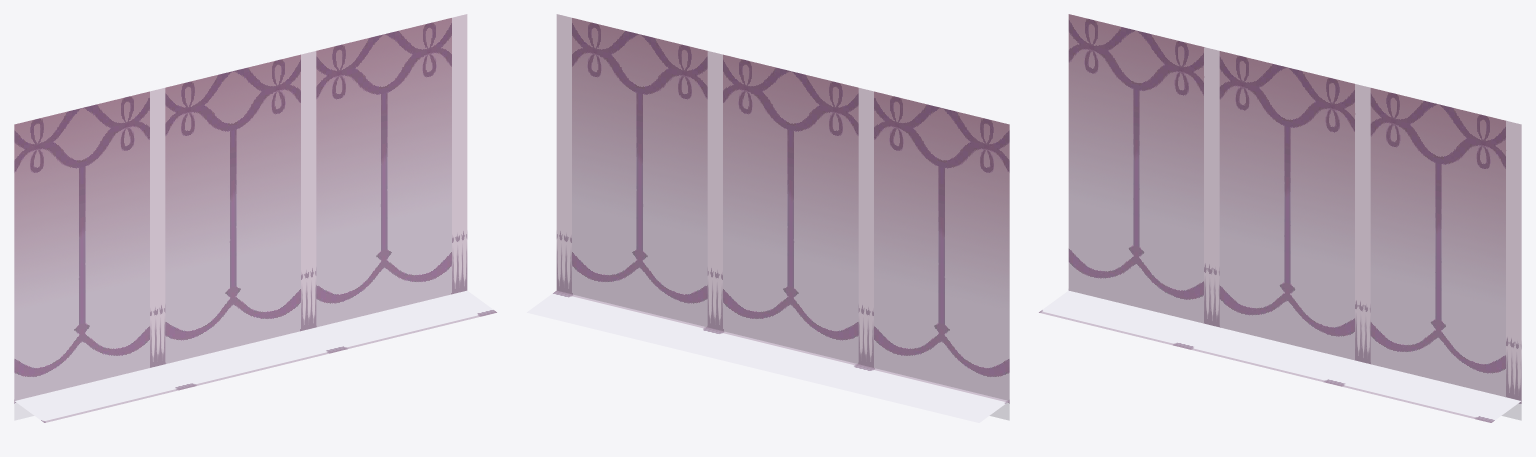
The model's file is Luna0CastleParedes.glb.
3 views of the same model, side by side, from view 1: azimuth 30°, elevation 25°; view 2: azimuth 150°, elevation 25°; view 3: azimuth 330°, elevation 25° (orthographic).
Parts seen in each view (by area): view 1: Setor_0; view 2: Setor_0; view 3: Setor_0.
Part boxes in pixels (<box>): Setor_0: <box>14,14,496,422</box>; Setor_0: <box>527,14,1009,422</box>; Setor_0: <box>1039,14,1521,422</box>.
Bounding box in the file's own units: 24.96 × 15.6 × 2.9.
Materials: 1 (1 with a texture image).
